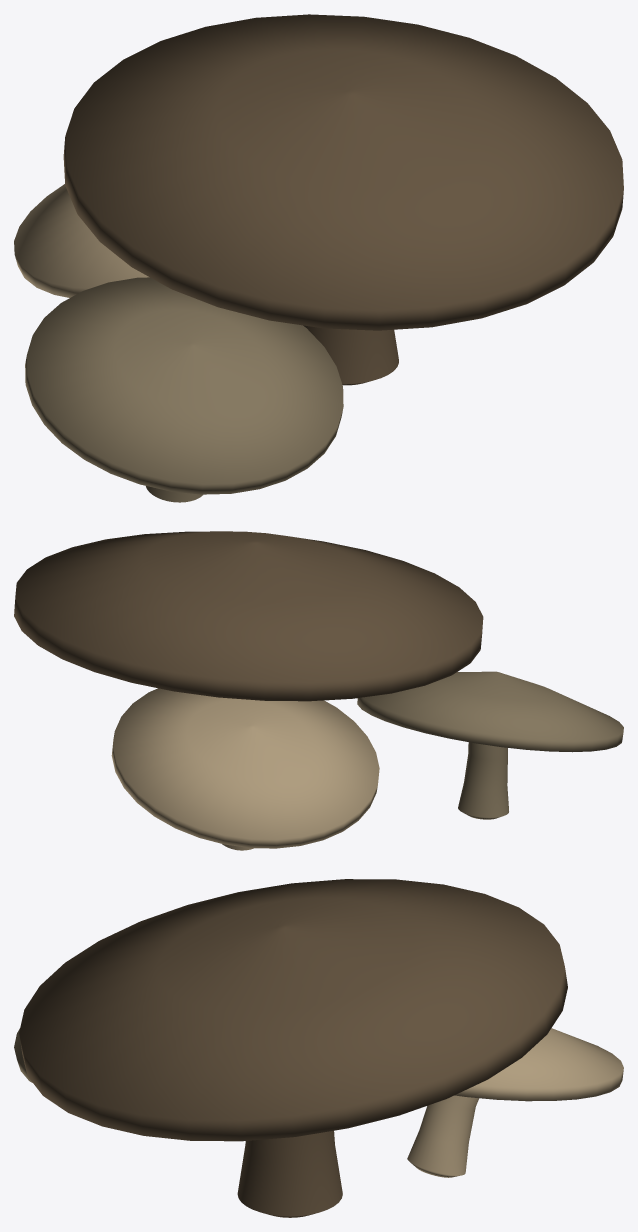
The model's file is mushroom.gltf.
3 views of the same model, one above another, from view 1: azimuth 30°, elevation 25°; view 2: azimuth 150°, elevation 25°; view 3: azimuth 270°, elevation 25° (orthographic). The views are drawn at different scales.
Parts seen in each view (by area): view 1: Cylinder; view 2: Cylinder; view 3: Cylinder.
Boxes of the visible parts, x1=… form: Cylinder: x1=14, y1=14, x2=623, y2=502; Cylinder: x1=14, y1=531, x2=623, y2=850; Cylinder: x1=14, y1=879, x2=623, y2=1217.
Bounding box in the file's own units: 2.58 × 1.26 × 2.29.
